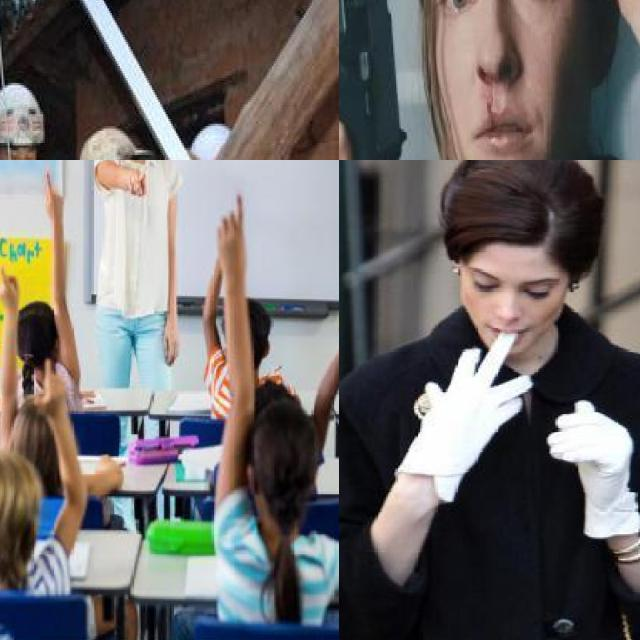No_Glasses: (457, 255, 557, 315), (417, 0, 564, 17)
face_nomask: (405, 0, 579, 160), (455, 252, 568, 365), (0, 145, 40, 160)
hand_glove: (415, 351, 534, 482), (548, 399, 634, 508)
hand_noglove: (213, 192, 245, 274), (31, 358, 66, 412), (95, 454, 124, 492), (44, 167, 64, 219), (0, 260, 19, 300), (162, 322, 179, 366), (127, 166, 145, 198)
head_helmet: (0, 81, 46, 150), (73, 127, 132, 160)
head_nohelmet: (429, 160, 606, 282), (231, 388, 330, 553), (0, 442, 50, 576), (216, 302, 281, 367), (20, 293, 68, 373)
person: (339, 160, 640, 640), (339, 0, 640, 160), (94, 160, 188, 387)
